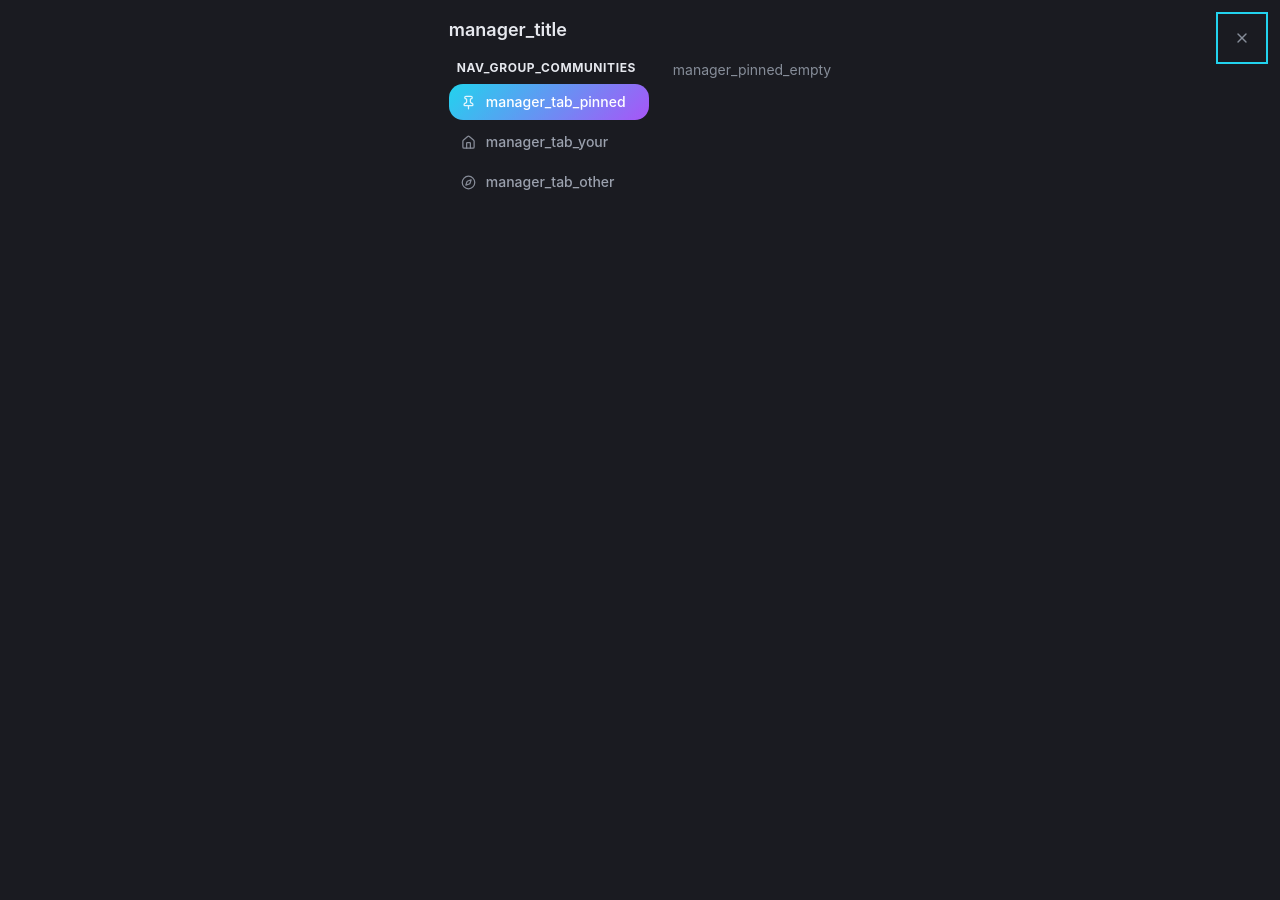
Scenario: CommunityManagerModal membership split › lists public non-member communities under Other communities
Click the button with test id "manager-tab-other". click: (549, 182)
box: top-left (449, 164), bottom-right (649, 200)
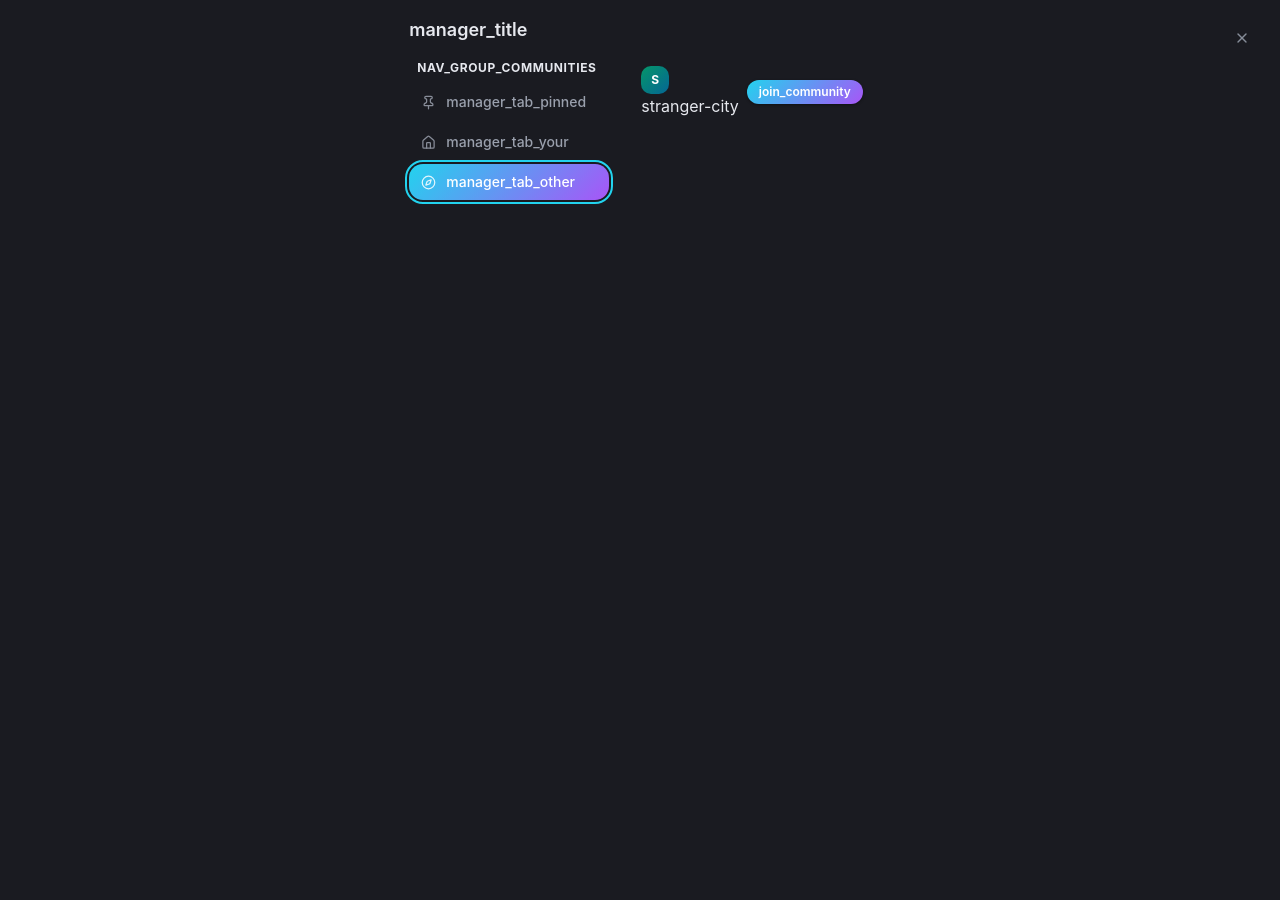
Check: the text "stranger-city" is shown, box top-left (641, 96), bottom-right (739, 116)
